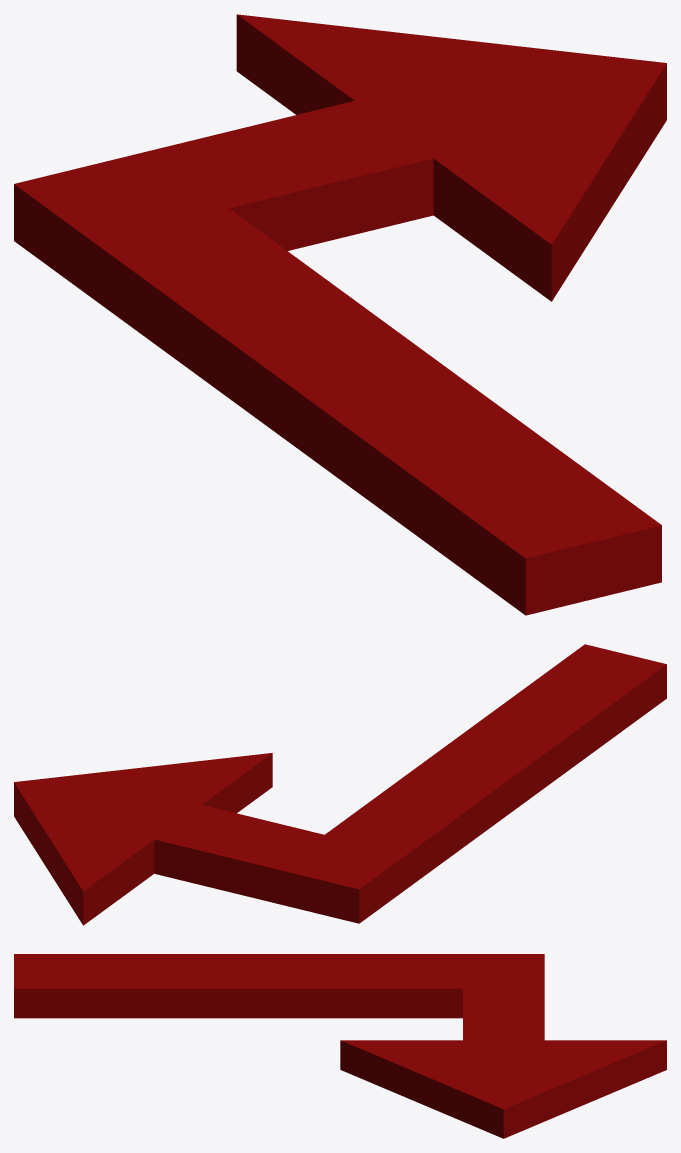
File: arrow_rd.glb
3 views of the same model, one above another, from view 1: azimuth 30°, elevation 25°; view 2: azimuth 150°, elevation 25°; view 3: azimuth 270°, elevation 25° (orthographic). The views are drawn at different scales.
Parts seen in each view (by area): view 1: Mesh_Mesh_head_geo.001_lambert2SG.002; view 2: Mesh_Mesh_head_geo.001_lambert2SG.002; view 3: Mesh_Mesh_head_geo.001_lambert2SG.002.
Part boxes in pixels (x1=…): Mesh_Mesh_head_geo.001_lambert2SG.002: x1=14, y1=14, x2=666, y2=615; Mesh_Mesh_head_geo.001_lambert2SG.002: x1=14, y1=644, x2=666, y2=925; Mesh_Mesh_head_geo.001_lambert2SG.002: x1=14, y1=954, x2=666, y2=1138.
Size of the model in its own units: 0.225 by 0.02 by 0.4.
